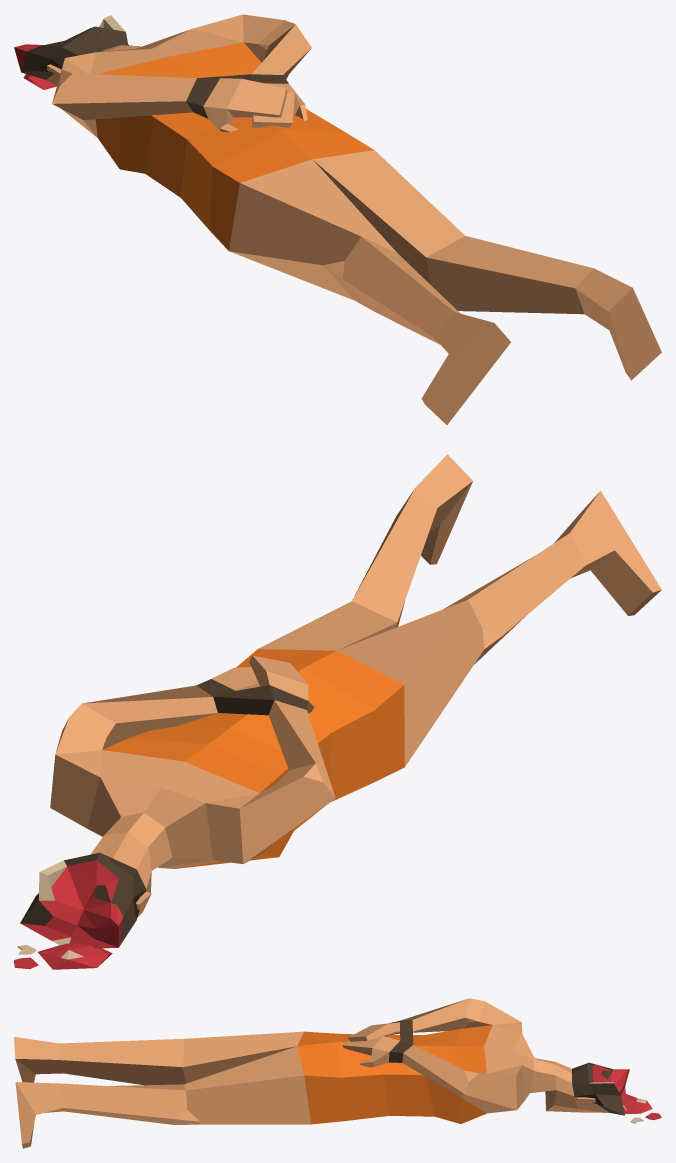
The model's file is apocalypse_woman-swimming-dead-b.fbx.
3 renders of one model, top to bottom at view 1: azimuth 30°, elevation 25°; view 2: azimuth 150°, elevation 25°; view 3: azimuth 270°, elevation 25°, orthographic. The views are drawn at different scales.
Parts seen in each view (by area): view 1: apocalypse_woman_swimming_dead_b; view 2: apocalypse_woman_swimming_dead_b; view 3: apocalypse_woman_swimming_dead_b.
Part boxes in pixels (<box>): apocalypse_woman_swimming_dead_b: <box>14,14,661,424</box>; apocalypse_woman_swimming_dead_b: <box>14,454,661,969</box>; apocalypse_woman_swimming_dead_b: <box>14,998,661,1148</box>.
Size of the model in its own units: 64.91 by 30.09 by 200.
